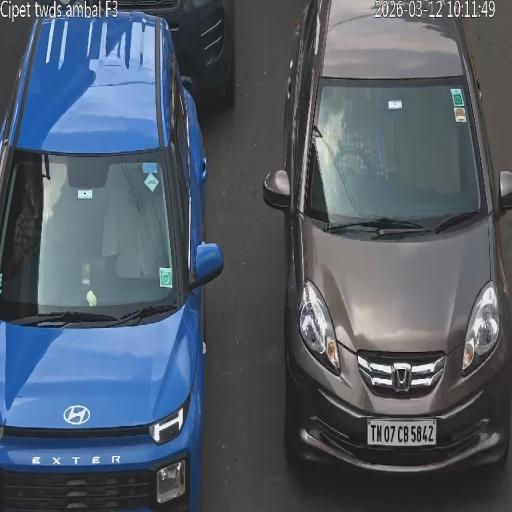person_with_seatbelt: (325, 95, 366, 186), (16, 179, 45, 249)
person_without_seatbelt: (114, 186, 162, 276)
